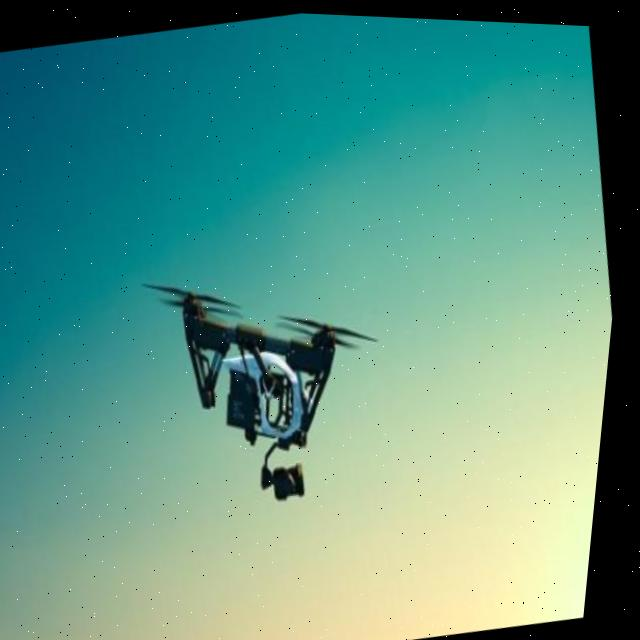drones: (67, 144, 458, 602)
